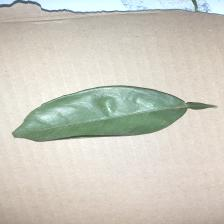healthy: (20, 89, 211, 138)
